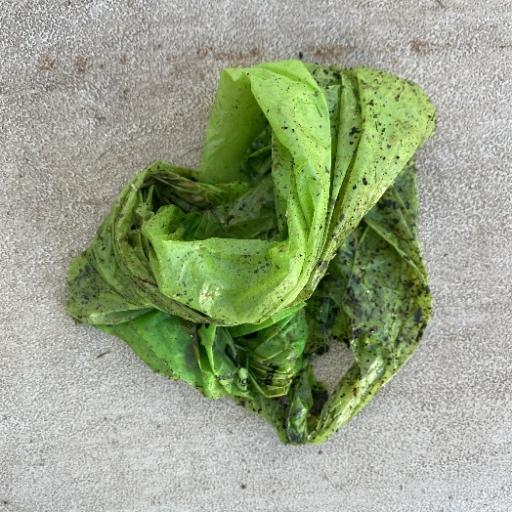Waste: (64, 56, 438, 446)
